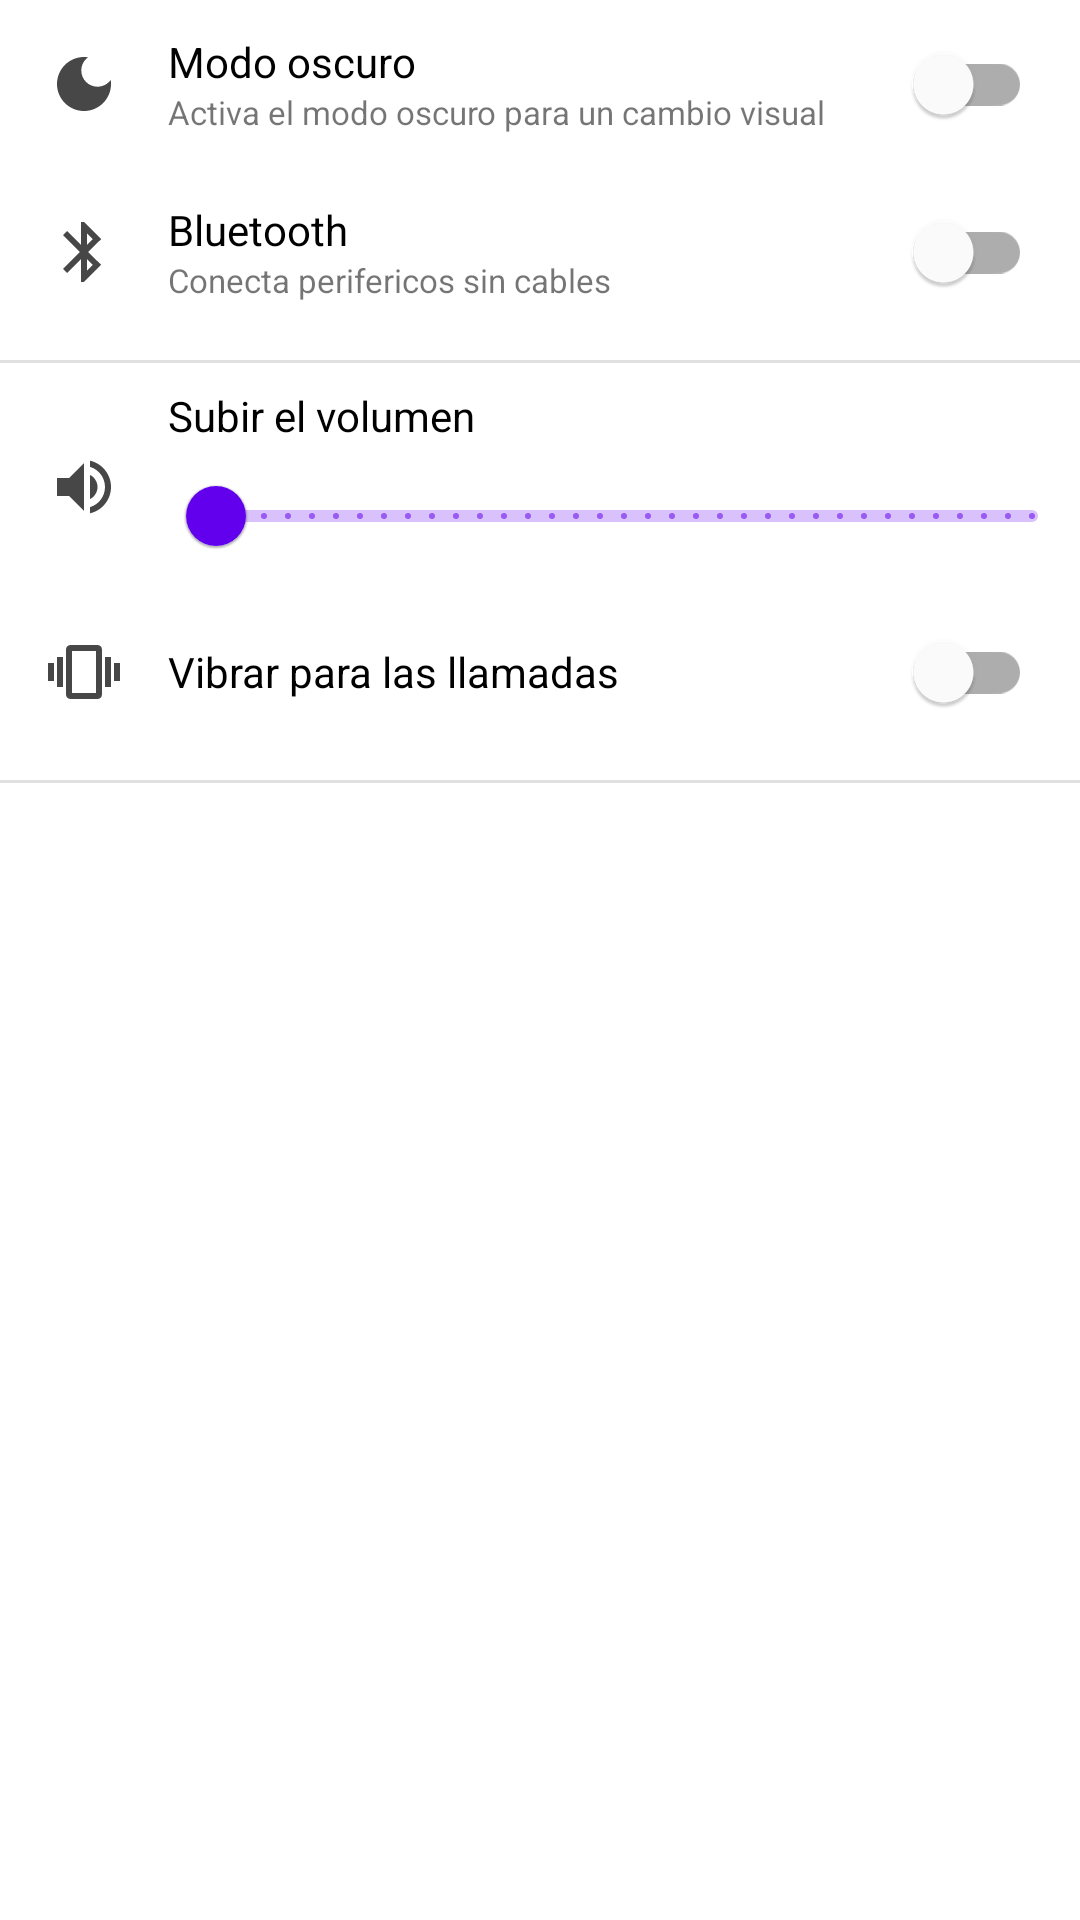

Icon bounding boxes for this 1080px×1920px phone screenshot, format box(x1, y1, x2, y2):
vibration: box(48, 645, 120, 699)
volume up: box(57, 460, 111, 514)
